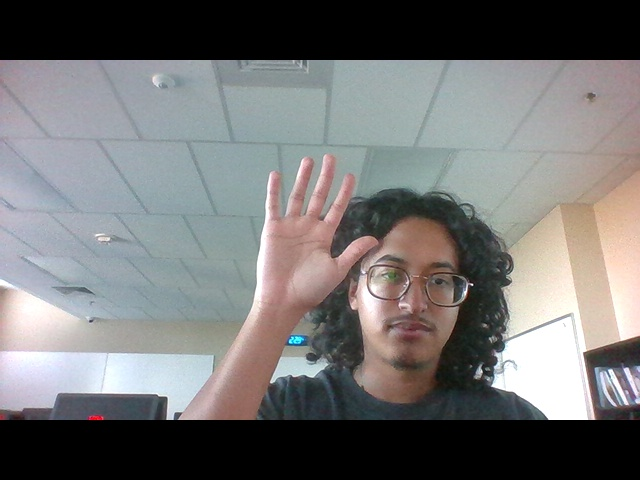hello: (250, 149, 385, 312)
